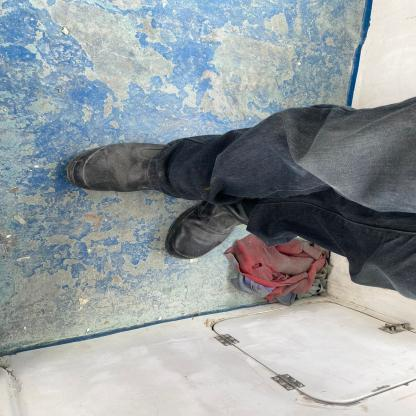bota: (68, 140, 188, 196), (163, 198, 243, 262)
